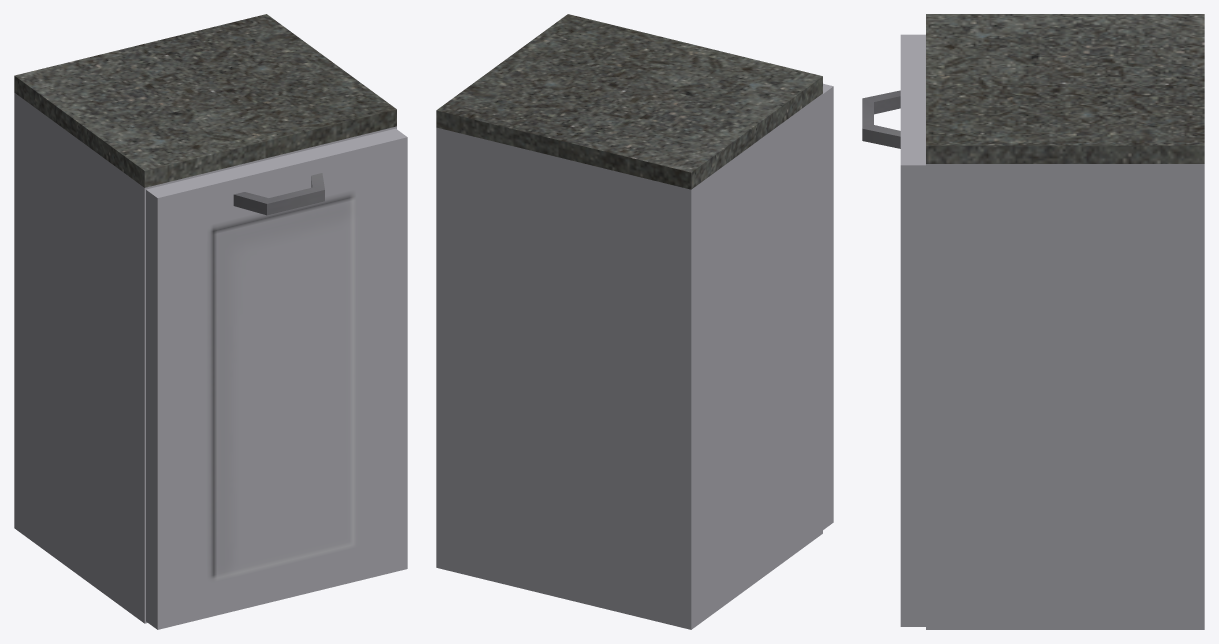
File: Kitchen_Cabinet_2A.fbx
3 renders of one model, left to right at view 1: azimuth 30°, elevation 25°; view 2: azimuth 150°, elevation 25°; view 3: azimuth 270°, elevation 25°, orthographic. The views are drawn at different scales.
Visible parts, largest first — view 1: polySurface953; view 2: polySurface953; view 3: polySurface953.
Boxes of the visible parts, box(x1,y1,x2,y2) form: polySurface953: box(14, 14, 407, 629); polySurface953: box(436, 14, 833, 629); polySurface953: box(862, 14, 1204, 629).
Bounding box in the file's own units: 0.7792 × 1.34 × 0.8565.
